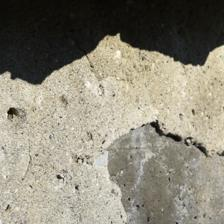Crack: (100, 123, 142, 223), (149, 117, 221, 164)
